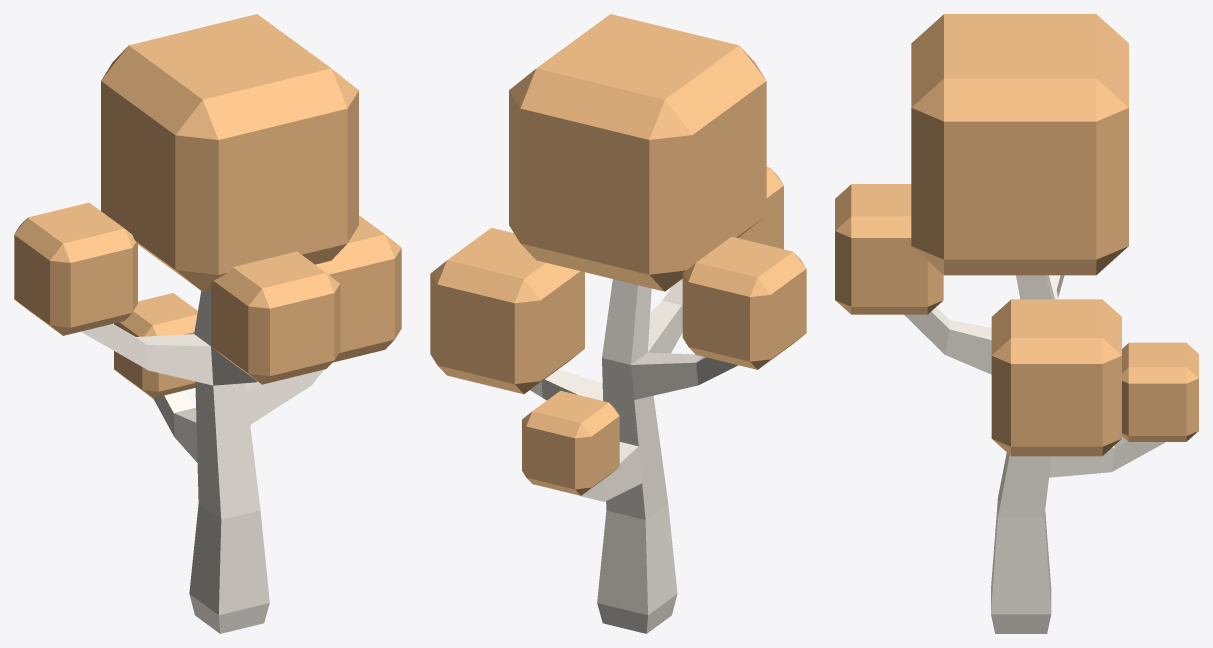
Rendered from tree_detailed_fall.glb.
The picture shows the model from 3 angles, left to right: view 1: azimuth 30°, elevation 25°; view 2: azimuth 150°, elevation 25°; view 3: azimuth 270°, elevation 25°; orthographic projection. The views are drawn at different scales.
Parts seen in each view (by area): view 1: tree_detailed_fall; view 2: tree_detailed_fall; view 3: tree_detailed_fall.
Part boxes in pixels (x1,y1,x2,y2): tree_detailed_fall: (14,14,401,633); tree_detailed_fall: (430,14,806,633); tree_detailed_fall: (835,14,1198,633).
Size of the model in its own units: 0.8471 by 1.33 by 0.7616.
